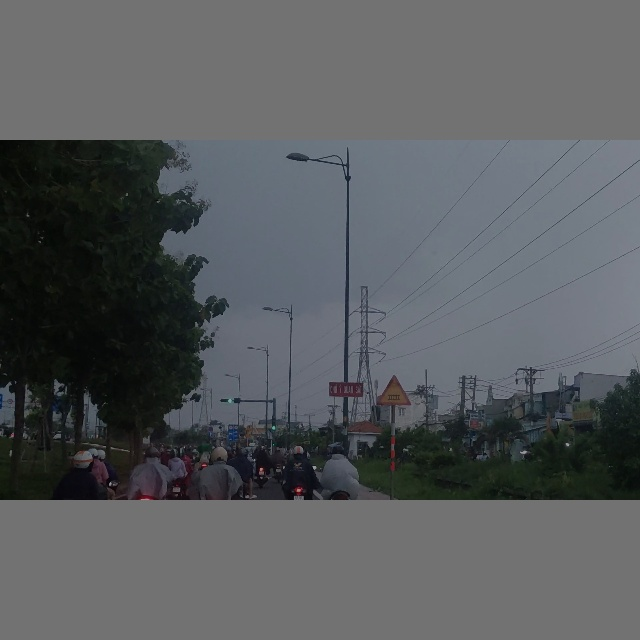W.210: (378, 374, 412, 406)
